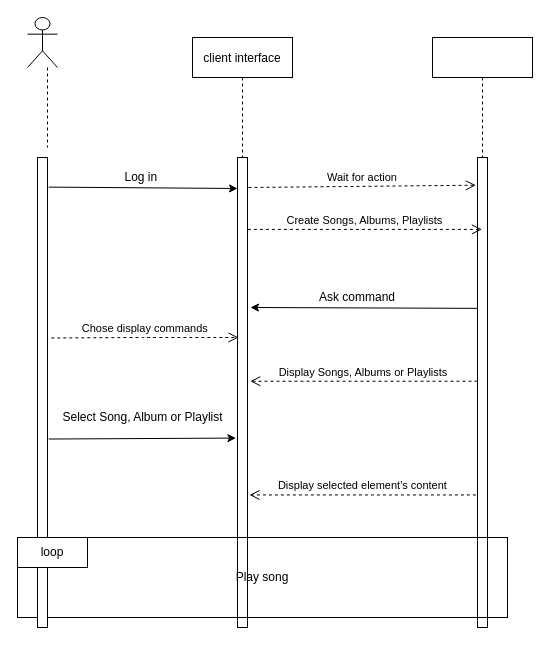
The diagram is 550 pixels wide and 645 high, and some of its shapes have lost their labels. The centre of each missing label's shape, as x and y in pixels:
Actor: (42,42)
server: (482,187)
